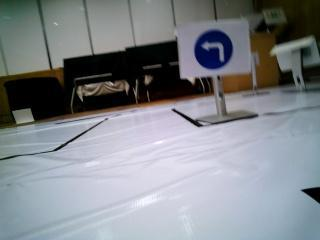left: (183, 22, 256, 78)
